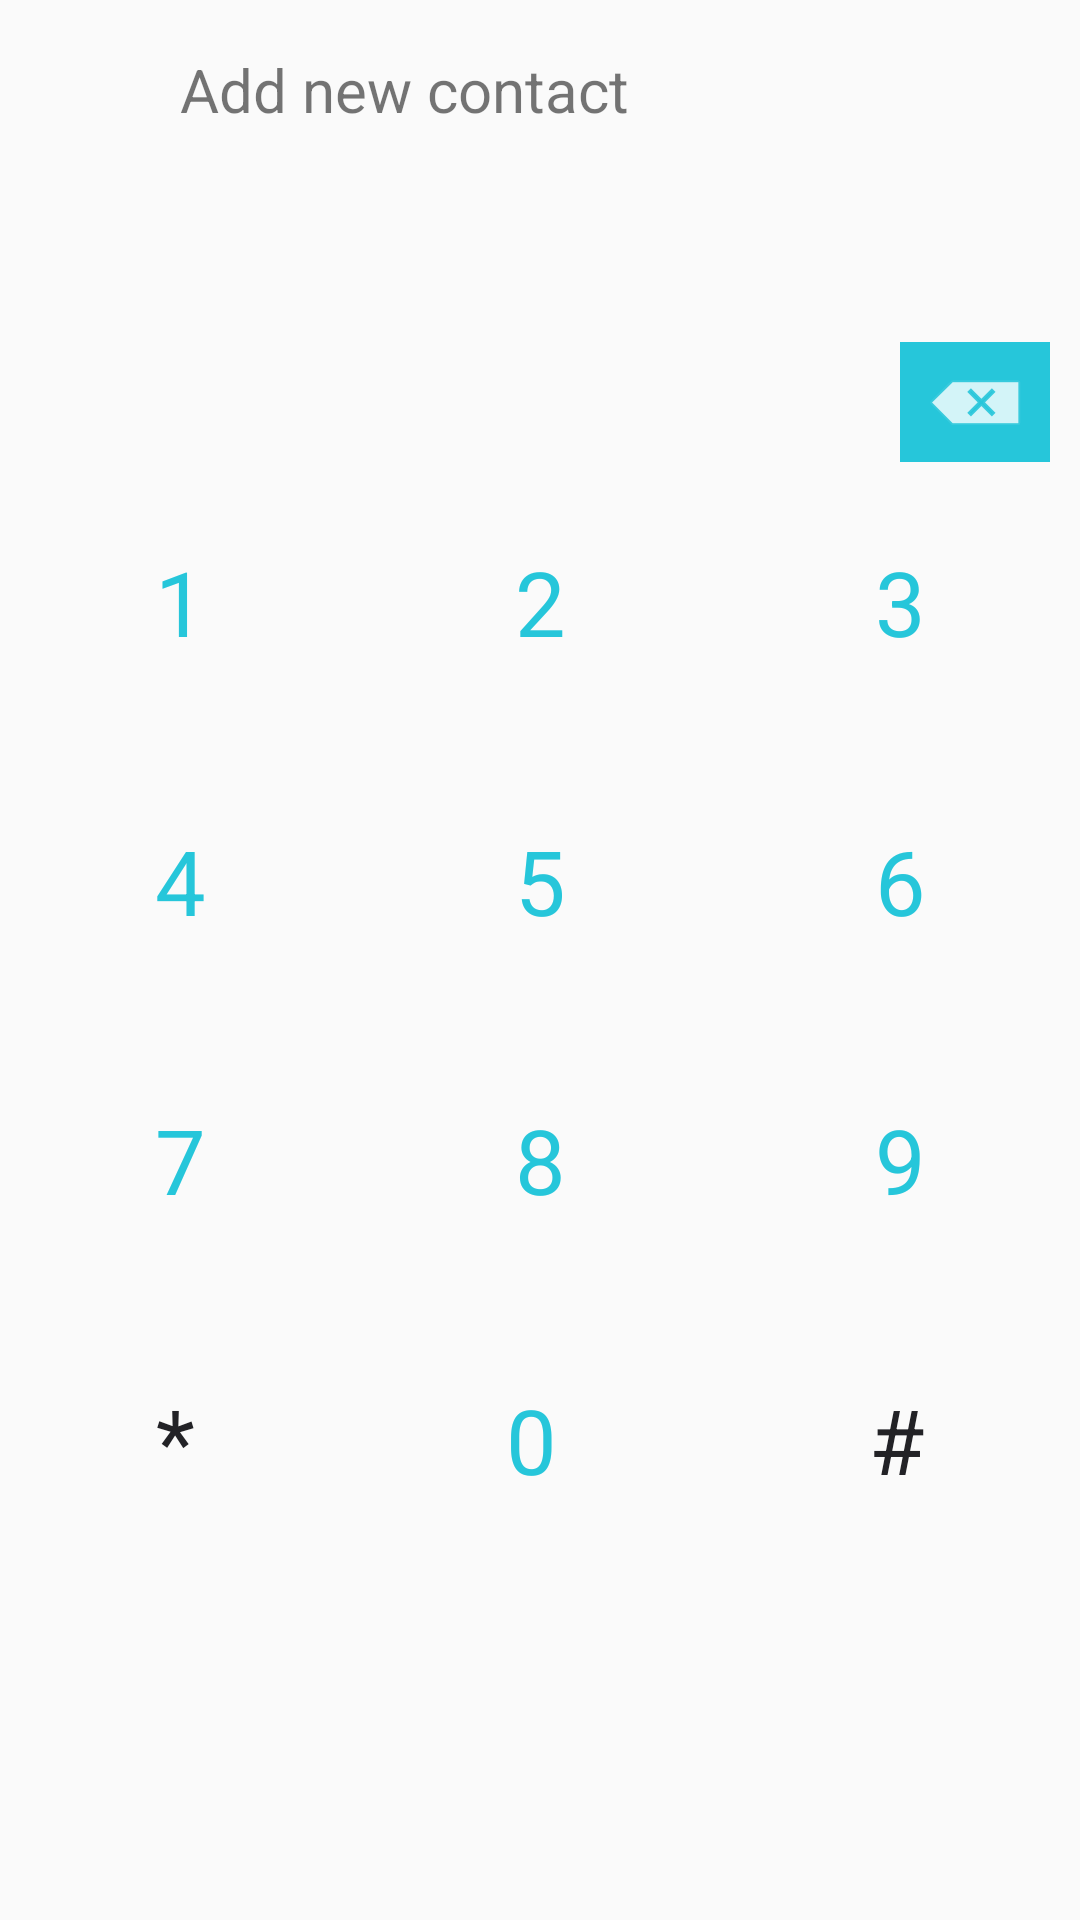

Where icons sit on this 1080w x 1920h app screen, as (x1, y1, x2, y2):
delete: (900, 342, 1050, 462)
